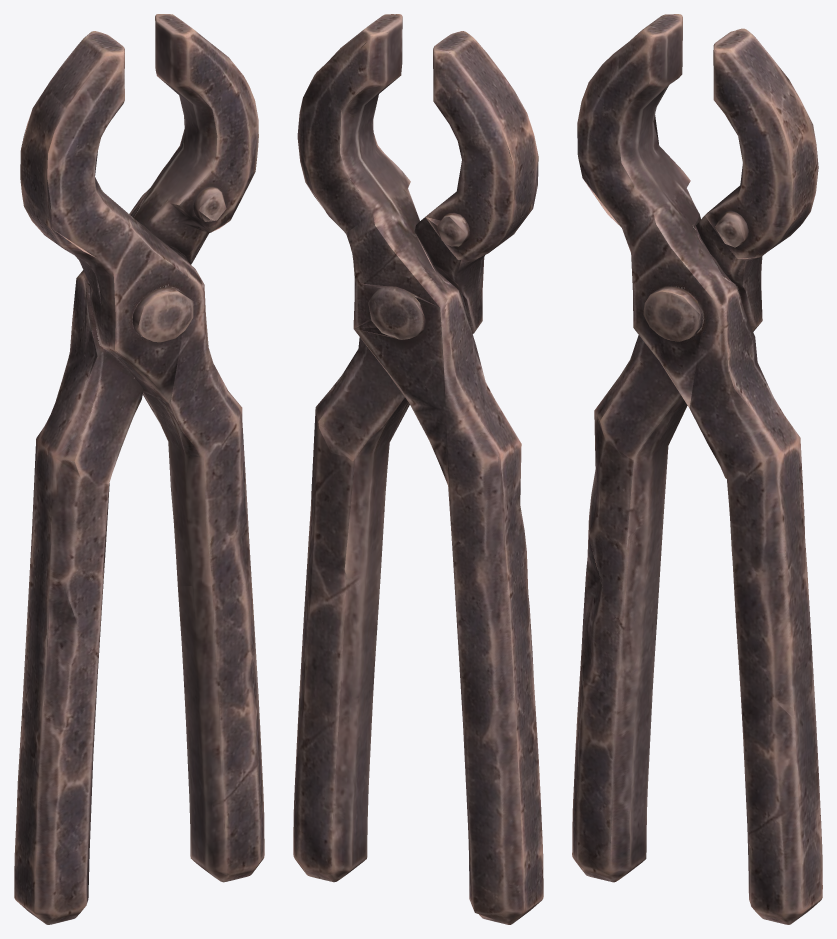
The model's file is tongs.glb.
3 views of the same model, side by side, from view 1: azimuth 30°, elevation 25°; view 2: azimuth 150°, elevation 25°; view 3: azimuth 330°, elevation 25° (orthographic).
Parts seen in each view (by area): view 1: Mesh_0; view 2: Mesh_0; view 3: Mesh_0.
Boxes of the visible parts, x1,y1,x2,y2 form: Mesh_0: (14,14,264,924); Mesh_0: (293,14,543,924); Mesh_0: (572,14,822,924).
Size of the model in its own units: 0.5336 by 1.9 by 0.2135.
1 material, 1 textured.
